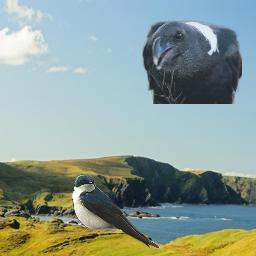Crow: (142, 20, 242, 104)
Swallow: (72, 174, 160, 249)
